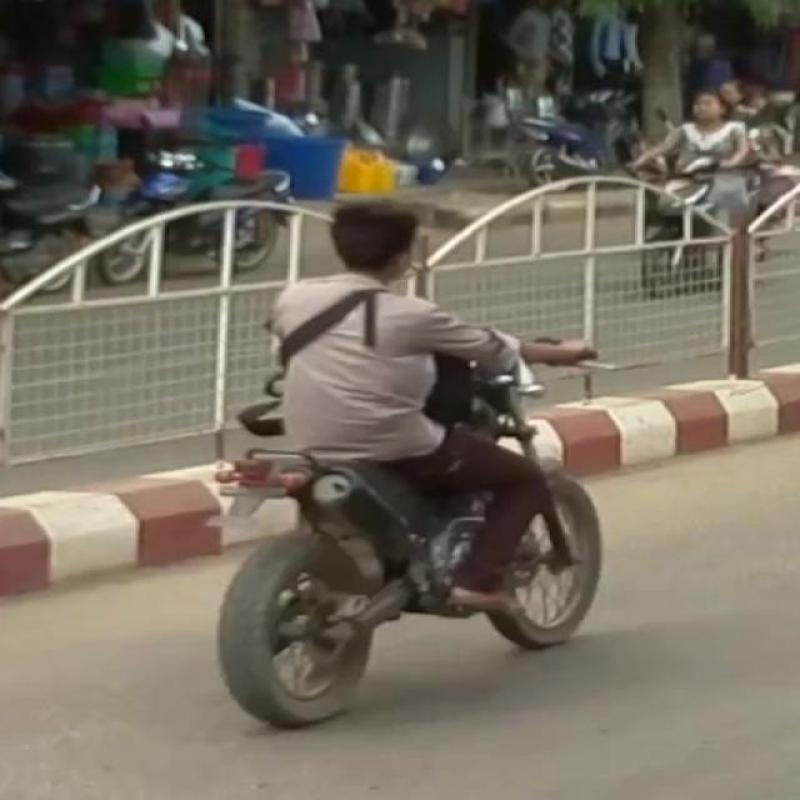nohelmet: (310, 178, 450, 302)
